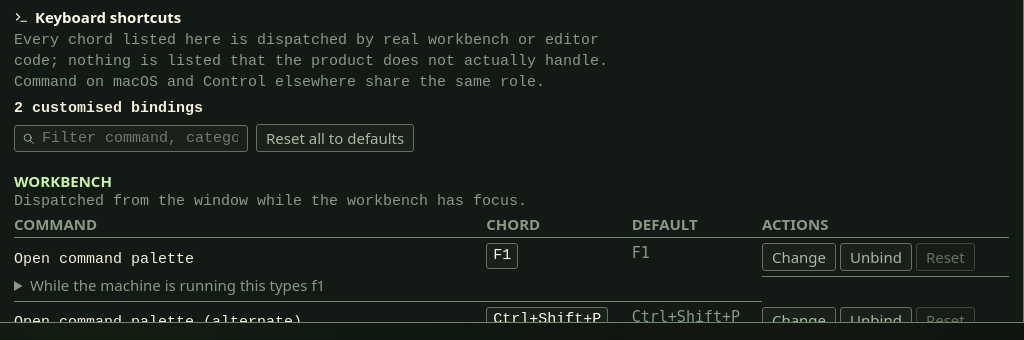
it: KeyboardShortcutsPanel › restores every customised binding at once and filters the inventory
Expected: the message reads "2 customised bindings", [14, 100, 203, 117]
Type "bookmark" into the field named "Filter shortcuts". click: [140, 138]
box: [40, 128, 240, 148]
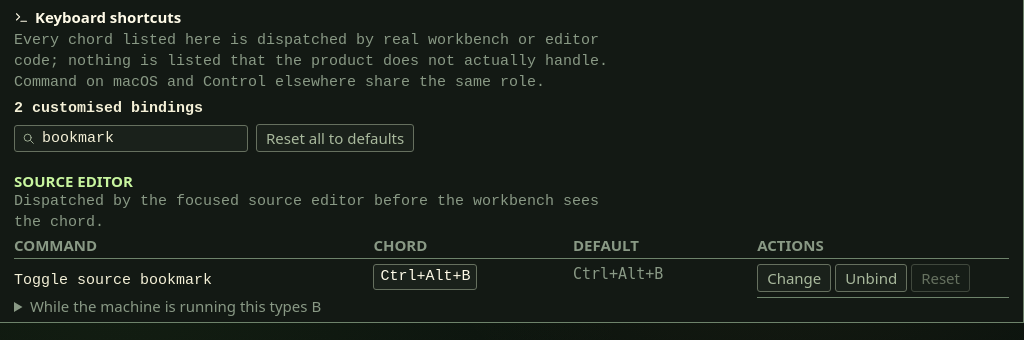
Clear the field named "Filter shortcuts". click: [140, 138]
box: [40, 128, 240, 148]
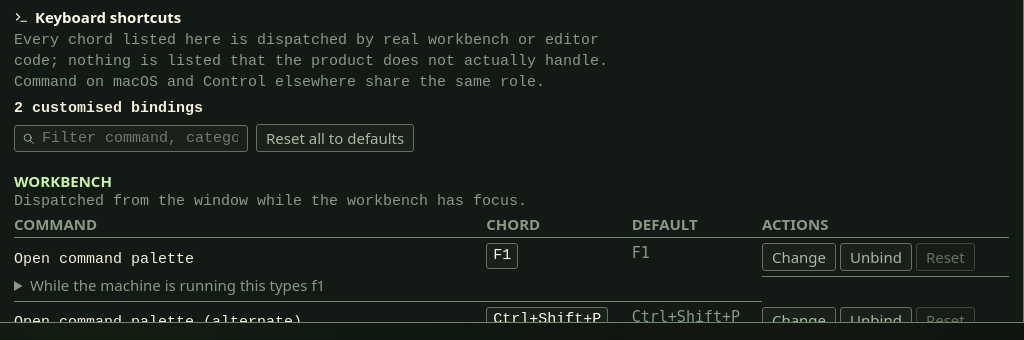
Click the button "Reset all to defaults". click: [335, 138]
box: [256, 124, 414, 152]
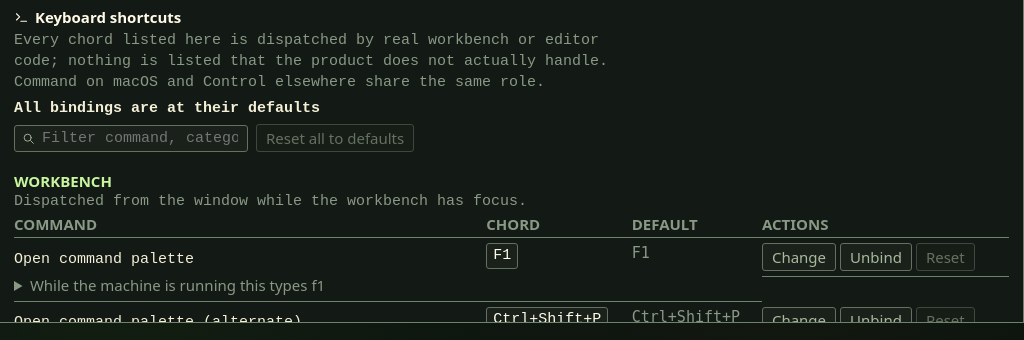
Expected: the button "Reset all to defaults" is disabled, [256, 124, 414, 152]
